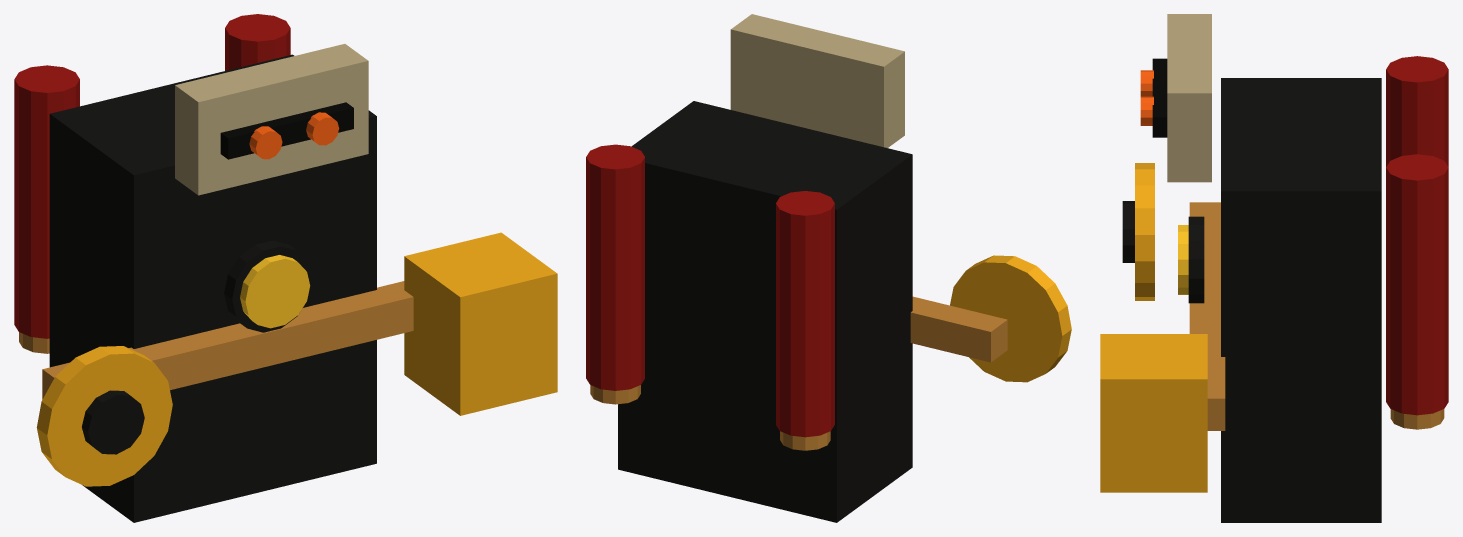
Rendered from ENEMY_V0134_Scrapper_ReadabilityOverlay.obj.
3 views of the same model, side by side, from view 1: azimuth 30°, elevation 25°; view 2: azimuth 150°, elevation 25°; view 3: azimuth 270°, elevation 25° (orthographic). The views are drawn at different scales.
Visible parts, largest first — view 1: scrapper_hunched_low_center_silhouette_core, scrapper_left_hammer_block_square_tell, scrapper_forward_cream_mask_plate, scrapper_uneven_arm_asymmetry_keeper, scrapper_right_cutter_arc_round_tell, scrapper_left_rear_red_pressure_vessel, scrapper_chest_weak_point_separate_from_eyes_gold_glass, scrapper_right_cutter_dark_hub, scrapper_right_rear_red_pressure_vessel, scrapper_soot_eye_slit_depth, scrapper_chest_weak_point_separate_from_eyes_black_ring, scrapper_right_furnace_identity_eye (+1 smaller); view 2: scrapper_hunched_low_center_silhouette_core, scrapper_forward_cream_mask_plate, scrapper_right_rear_red_pressure_vessel, scrapper_left_rear_red_pressure_vessel, scrapper_right_cutter_arc_round_tell, scrapper_uneven_arm_asymmetry_keeper, scrapper_right_rear_brass_cap_a, scrapper_left_rear_brass_cap_a; view 3: scrapper_hunched_low_center_silhouette_core, scrapper_left_hammer_block_square_tell, scrapper_right_rear_red_pressure_vessel, scrapper_forward_cream_mask_plate, scrapper_left_rear_red_pressure_vessel, scrapper_uneven_arm_asymmetry_keeper, scrapper_right_cutter_arc_round_tell, scrapper_chest_weak_point_separate_from_eyes_black_ring, scrapper_soot_eye_slit_depth, scrapper_right_cutter_dark_hub, scrapper_right_rear_brass_cap_a, scrapper_chest_weak_point_separate_from_eyes_gold_glass.
Part boxes in pixels (bbox=[...]): scrapper_hunched_low_center_silhouette_core: bbox=[49, 54, 376, 522]; scrapper_left_hammer_block_square_tell: bbox=[404, 232, 557, 415]; scrapper_forward_cream_mask_plate: bbox=[175, 44, 368, 195]; scrapper_uneven_arm_asymmetry_keeper: bbox=[42, 281, 413, 399]; scrapper_right_cutter_arc_round_tell: bbox=[36, 346, 172, 486]; scrapper_left_rear_red_pressure_vessel: bbox=[14, 65, 79, 338]; scrapper_chest_weak_point_separate_from_eyes_gold_glass: bbox=[240, 255, 310, 328]; scrapper_right_cutter_dark_hub: bbox=[82, 390, 144, 454]; scrapper_right_rear_red_pressure_vessel: bbox=[225, 14, 290, 70]; scrapper_soot_eye_slit_depth: bbox=[220, 102, 353, 159]; scrapper_chest_weak_point_separate_from_eyes_black_ring: bbox=[224, 240, 312, 332]; scrapper_right_furnace_identity_eye: bbox=[306, 112, 339, 145]; scrapper_hunched_low_center_silhouette_core: bbox=[618, 101, 912, 522]; scrapper_forward_cream_mask_plate: bbox=[730, 14, 904, 147]; scrapper_right_rear_red_pressure_vessel: bbox=[586, 144, 644, 390]; scrapper_left_rear_red_pressure_vessel: bbox=[776, 191, 834, 437]; scrapper_right_cutter_arc_round_tell: bbox=[950, 255, 1071, 382]; scrapper_uneven_arm_asymmetry_keeper: bbox=[910, 296, 1007, 362]; scrapper_right_rear_brass_cap_a: bbox=[590, 385, 640, 404]; scrapper_left_rear_brass_cap_a: bbox=[780, 431, 830, 450]; scrapper_hunched_low_center_silhouette_core: bbox=[1221, 78, 1381, 522]; scrapper_left_hammer_block_square_tell: bbox=[1100, 334, 1207, 492]; scrapper_right_rear_red_pressure_vessel: bbox=[1386, 154, 1448, 415]; scrapper_forward_cream_mask_plate: bbox=[1167, 14, 1211, 182]; scrapper_left_rear_red_pressure_vessel: bbox=[1386, 56, 1448, 166]; scrapper_uneven_arm_asymmetry_keeper: bbox=[1189, 202, 1225, 430]; scrapper_right_cutter_arc_round_tell: bbox=[1135, 163, 1154, 300]; scrapper_chest_weak_point_separate_from_eyes_black_ring: bbox=[1188, 216, 1204, 303]; scrapper_soot_eye_slit_depth: bbox=[1152, 58, 1167, 137]; scrapper_right_cutter_dark_hub: bbox=[1122, 201, 1134, 262]; scrapper_right_rear_brass_cap_a: bbox=[1390, 409, 1444, 429]; scrapper_chest_weak_point_separate_from_eyes_gold_glass: bbox=[1178, 225, 1188, 294].
Bounding box in the file's own units: 1.21 × 1.02 × 0.78.
